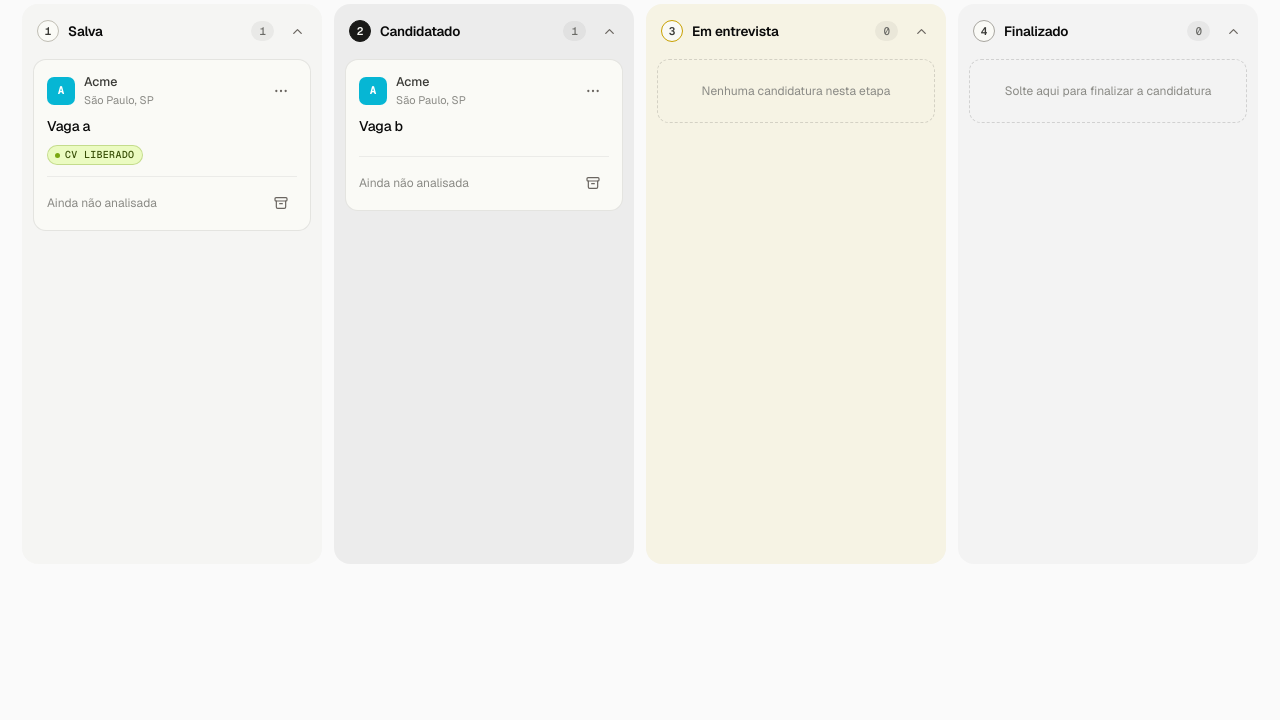
Scenario: KanbanBoard › move de etapa pelo menu: grava o status e a ordem da etapa de destino
What coordinates should you click on to do the following:
click the button named "Mover para outra etapa" below "Salva"
I would click on:
 (281, 91)
Its box is [265,75,297,107].
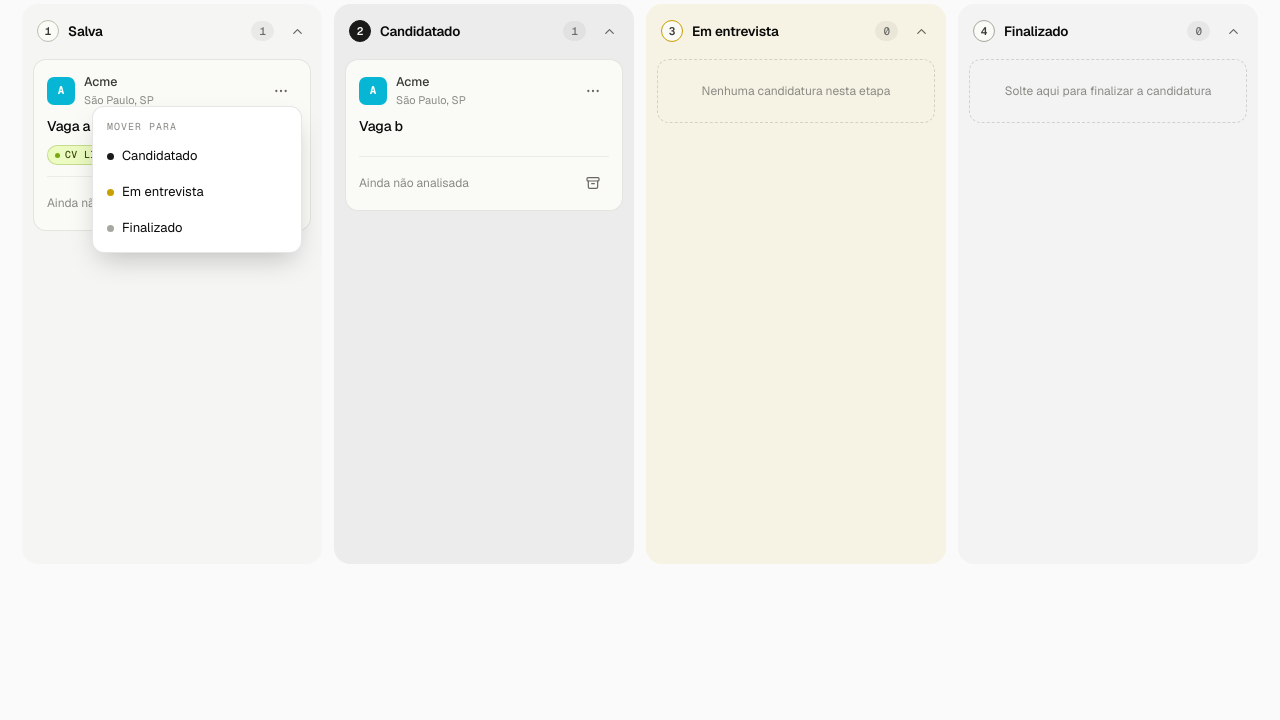
What coordinates should you click on to do the following:
click the menu item "Candidatado"
I would click on:
 (197, 156)
Its box is [99,138,295,174].
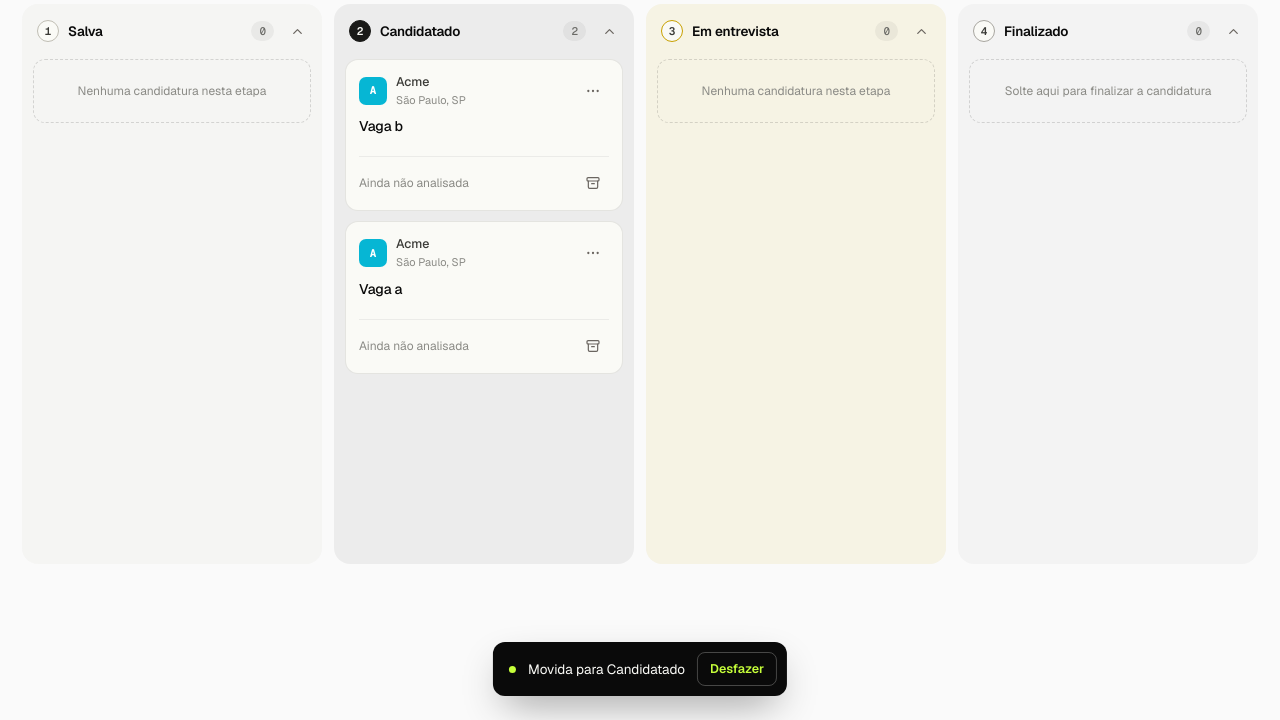
expect the text "Movida para Candidatado" is shown: met, box [528,659,685,679]
